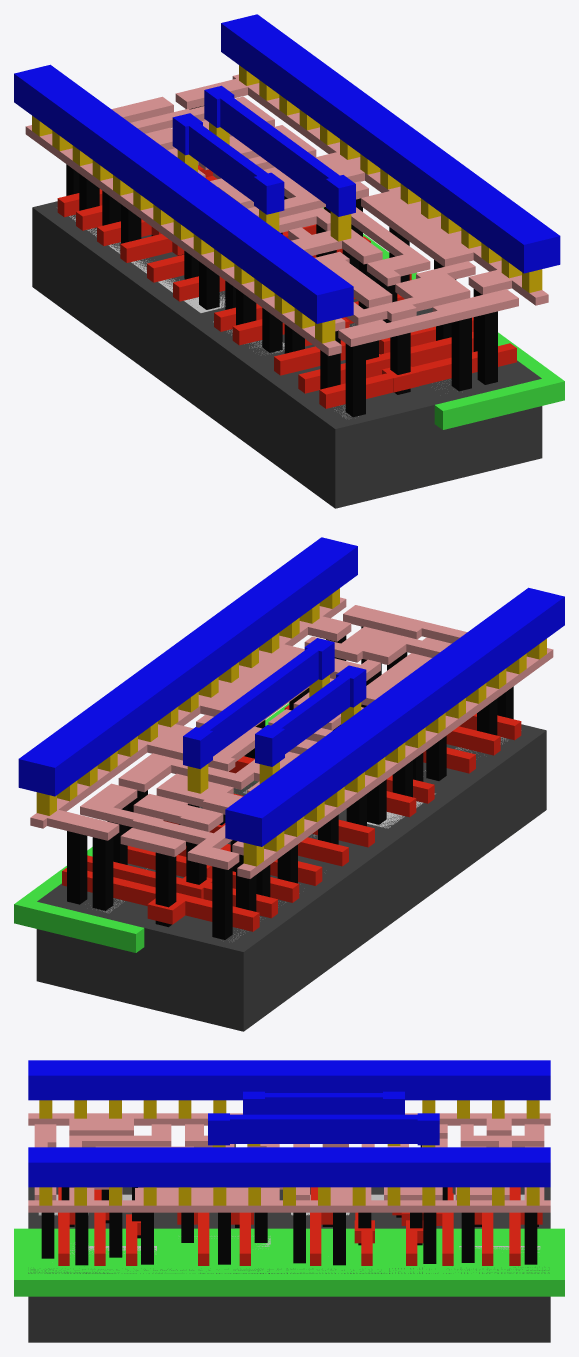
The model's file is sky130_fd_sc_hd__sdlclkp_1.obj.
3 renders of one model, top to bottom at view 1: azimuth 30°, elevation 25°; view 2: azimuth 150°, elevation 25°; view 3: azimuth 270°, elevation 25°, orthographic. The views are drawn at different scales.
Parts seen in each view (by area): view 1: metal1, subs, li, licon, poly, mcon, nwell, diff; view 2: metal1, subs, li, licon, poly, mcon, nwell; view 3: metal1, subs, nwell, li, licon, poly, mcon.
Boxes of the visible parts, box(x1,y1,x2,y2) form: metal1: box(14, 14, 560, 323); subs: box(32, 201, 542, 508); li: box(25, 74, 548, 355); licon: box(66, 106, 497, 417); poly: box(57, 165, 516, 408); mcon: box(32, 65, 542, 343); nwell: box(323, 207, 564, 429); diff: box(69, 215, 358, 418); metal1: box(18, 537, 564, 846); subs: box(36, 724, 546, 1031); li: box(30, 597, 553, 878); licon: box(67, 626, 513, 939); poly: box(62, 705, 521, 931); mcon: box(36, 588, 546, 866); nwell: box(14, 703, 289, 952); metal1: box(28, 1060, 550, 1187); subs: box(28, 1187, 550, 1342); nwell: box(14, 1228, 564, 1296); li: box(28, 1113, 550, 1212); licon: box(41, 1144, 538, 1265); poly: box(58, 1187, 542, 1265); mcon: box(39, 1100, 539, 1205).
Size of the model in its own units: 3.2 by 2.74 by 7.28.
